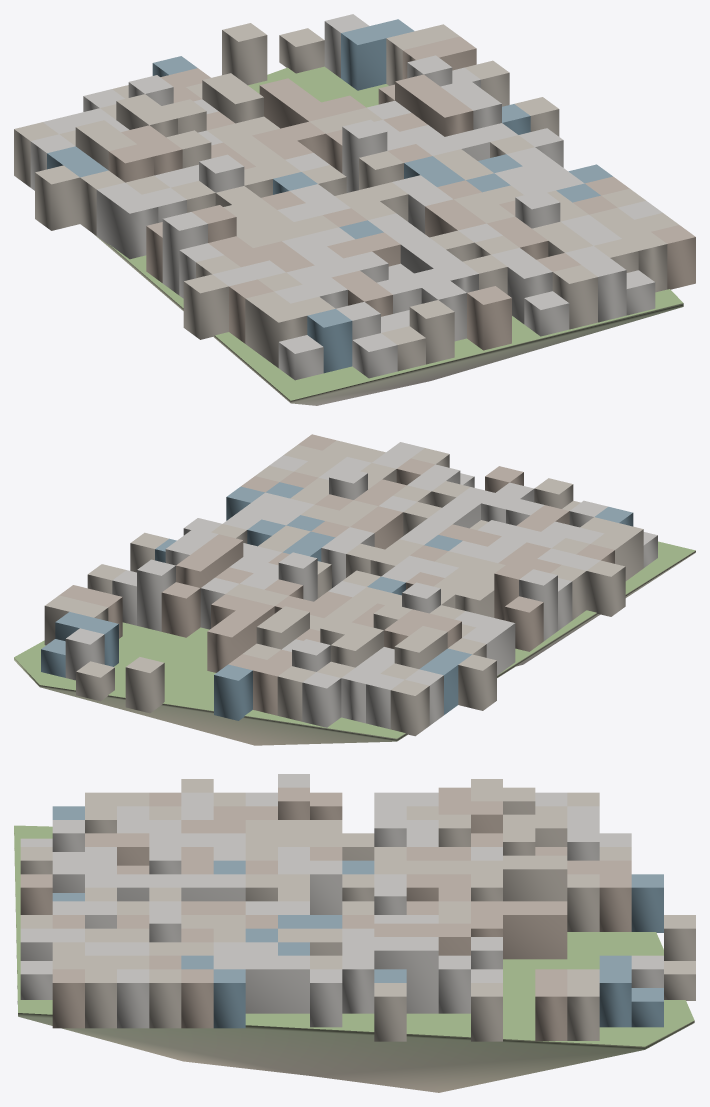
Rendered from SKY-062.lod2.glb.
The picture shows the model from 3 angles, top to bottom: view 1: azimuth 30°, elevation 25°; view 2: azimuth 150°, elevation 25°; view 3: azimuth 270°, elevation 25°; orthographic projection. The views are drawn at different scales.
Parts seen in each view (by area): view 1: warren_hull, deck, rock; view 2: warren_hull, deck, rock; view 3: warren_hull, rock, deck.
Boxes of the visible parts, <box> form: warren_hull: <box>14,14,695,380</box>; deck: <box>110,66,682,400</box>; rock: <box>94,234,683,405</box>; warren_hull: <box>41,434,657,736</box>; deck: <box>14,541,695,738</box>; rock: <box>14,550,695,745</box>; warren_hull: <box>20,774,695,1041</box>; rock: <box>14,833,694,1092</box>; deck: <box>14,825,694,1046</box>.
Size of the model in its own units: 246 by 93.01 by 318.
